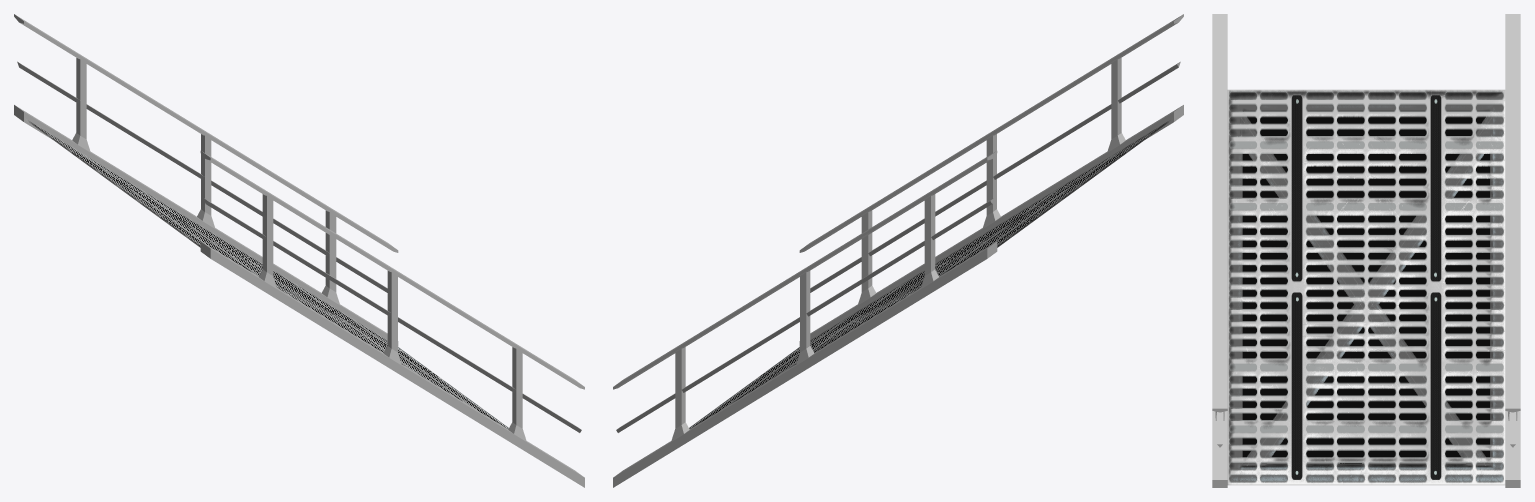
File: Floor_Slope_01.FBX
3 renders of one model, left to right at view 1: azimuth 30°, elevation 25°; view 2: azimuth 150°, elevation 25°; view 3: azimuth 270°, elevation 25°, orthographic. The views are drawn at different scales.
Parts seen in each view (by area): view 1: Floor_Slope_01; view 2: Floor_Slope_01; view 3: Floor_Slope_01.
Part boxes in pixels (x1=…): Floor_Slope_01: x1=14, y1=14, x2=584, y2=487; Floor_Slope_01: x1=613, y1=14, x2=1183, y2=487; Floor_Slope_01: x1=1212, y1=14, x2=1520, y2=487.
Size of the model in its own units: 5.5 by 5.92 by 5.
